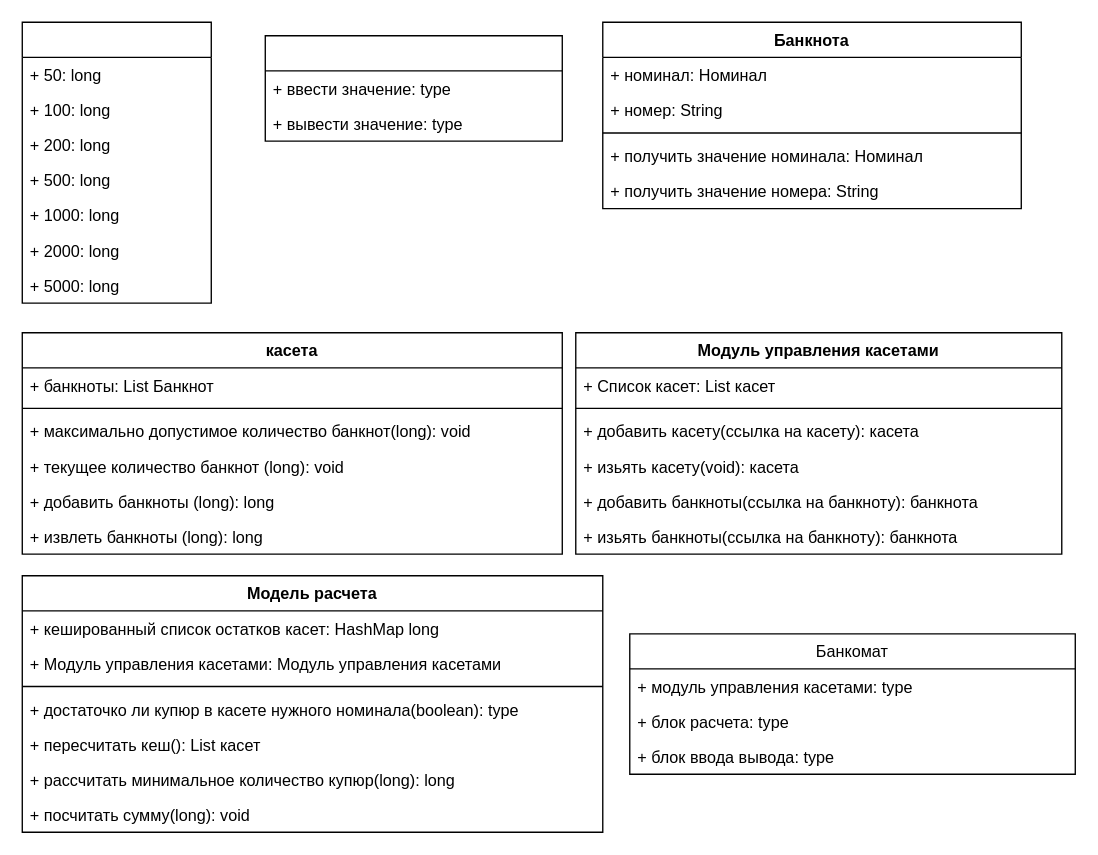
This 1098x855 diagram has some shape labels left out. Each missing label, with the box of its shape:
Блок ввода вывода: (264, 34, 562, 141)
Номинал: (21, 21, 211, 303)
